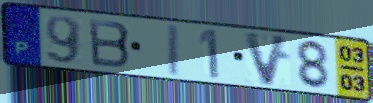1: (197, 27, 222, 81)
8: (294, 39, 331, 91)
9: (43, 14, 86, 65)
B: (87, 17, 133, 71)
I: (165, 22, 183, 79)
V: (241, 29, 292, 89)
